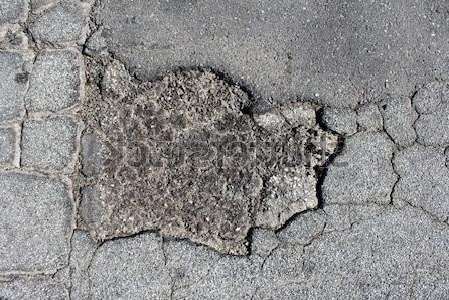pothole: (70, 60, 347, 260)
